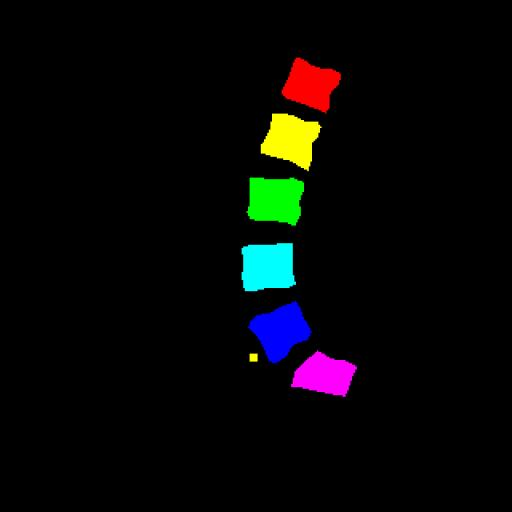L1: (282, 57, 341, 112)
L2: (261, 114, 321, 170)
L3: (248, 178, 304, 226)
L4: (242, 243, 296, 291)
L5: (249, 302, 311, 363)
S1: (292, 351, 357, 396)
